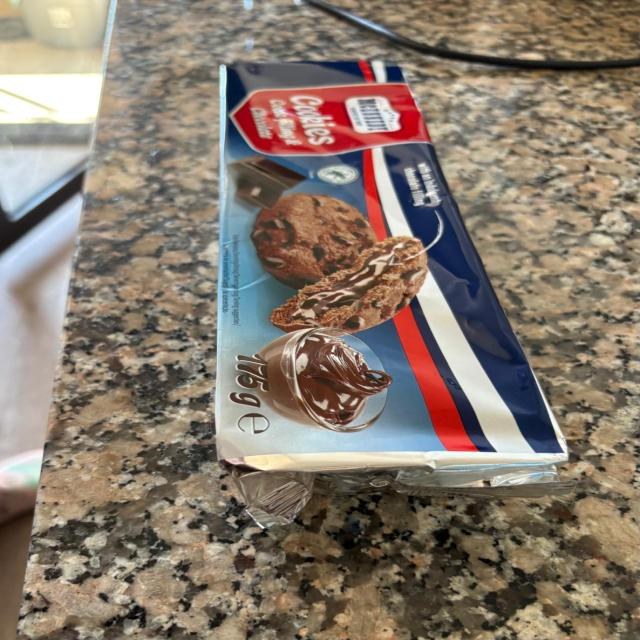good_package: (218, 58, 581, 529)
